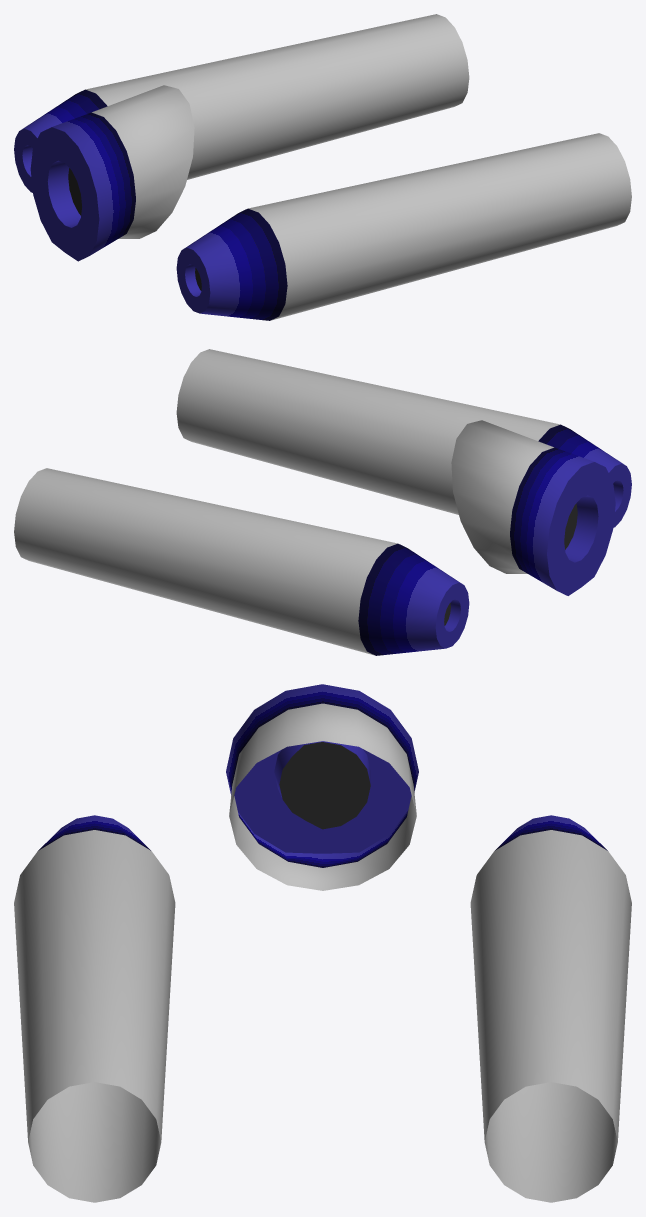
File: Exhaust_Space.FBX
3 renders of one model, top to bottom at view 1: azimuth 30°, elevation 25°; view 2: azimuth 150°, elevation 25°; view 3: azimuth 270°, elevation 25°, orthographic. The views are drawn at different scales.
Parts seen in each view (by area): view 1: Exhaust_Space; view 2: Exhaust_Space; view 3: Exhaust_Space.
Boxes of the visible parts, x1,y1,x2,y2 form: Exhaust_Space: [14, 14, 631, 320]; Exhaust_Space: [14, 349, 631, 655]; Exhaust_Space: [14, 684, 631, 1202].
Size of the model in its own units: 81.06 by 28.17 by 66.86.
